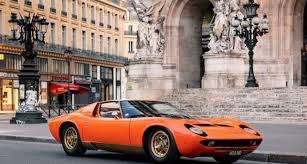Lamborghini: (53, 103, 256, 159)
